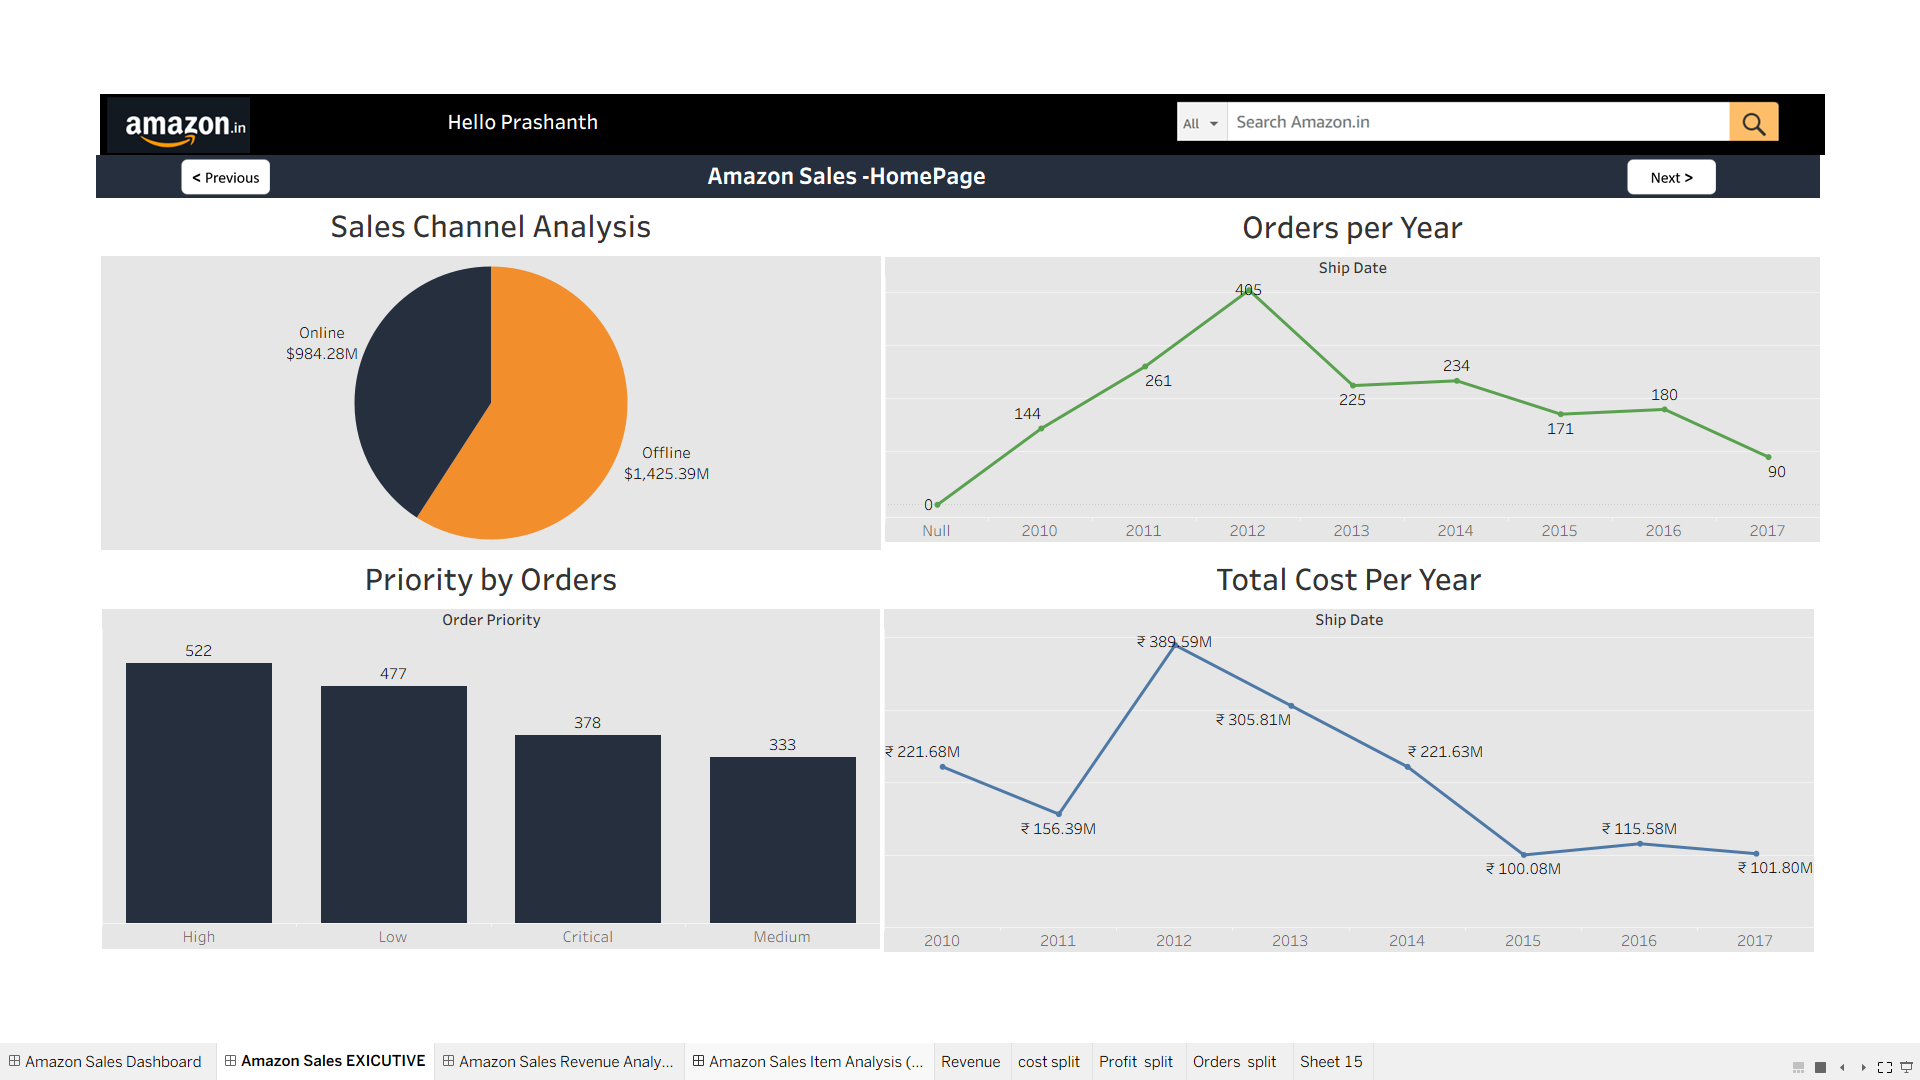

What the dashboard file says about the page in this screenshot:
{"tool":"tableau","page":{"name":"Amazon Sales EXICUTIVE","canvas":[1000,1000],"units":"permille","ordinal":1},"visuals":[{"type":"blank","box":[0,3.5,1003,70.5]},{"type":"text","box":[199.9,5.9,133.7,58.8]},{"type":"image","param":"Image/amazon.png","box":[4.2,7,125.2,64.6]},{"type":"dashboard-object","box":[29.5,78.7,86.1,45.8]},{"type":"dashboard-object","box":[870.6,78.7,86.1,45.8]},{"type":"text","box":[351,79.9,201.7,35.2]},{"type":"worksheet","title":"Sales Channel Analysis","mark":"Pie","box":[0.6,126.9,453.3,406.6]},{"type":"worksheet","title":"Orders per Year","mark":"Automatic","rows":["Calculation_1719936036089859"],"cols":["Ship Date"],"box":[456.4,128.1,543.6,396]},{"type":"worksheet","title":"Priority by Orders","mark":"Automatic","rows":["Calculation_1719936036089859"],"cols":["Order Priority"],"box":[1.2,537,452.1,460.6]},{"type":"worksheet","title":"Total Cost Per Year","mark":"Automatic","rows":["Total Cost"],"cols":["Ship Date"],"box":[455.8,537,540.6,464.2]}]}

Visuals, with their boxes on the dashboard's canvas, which has no fixed pixel size, in thousandths of its width and height (x1, y1, x2, y2). These are canvas units, not pixel positions in the 1920x1080 screenshot, which may show the page scaled, cropped or inside an application window:
blank: locate(0, 4, 1003, 74)
text: locate(200, 6, 334, 65)
image: locate(4, 7, 129, 72)
dashboard-object: locate(30, 79, 116, 124)
dashboard-object: locate(871, 79, 957, 124)
text: locate(351, 80, 553, 115)
"Sales Channel Analysis" worksheet (Pie marks): locate(1, 127, 454, 534)
"Orders per Year" worksheet: locate(456, 128, 1000, 524)
"Priority by Orders" worksheet: locate(1, 537, 453, 998)
"Total Cost Per Year" worksheet: locate(456, 537, 996, 1001)
